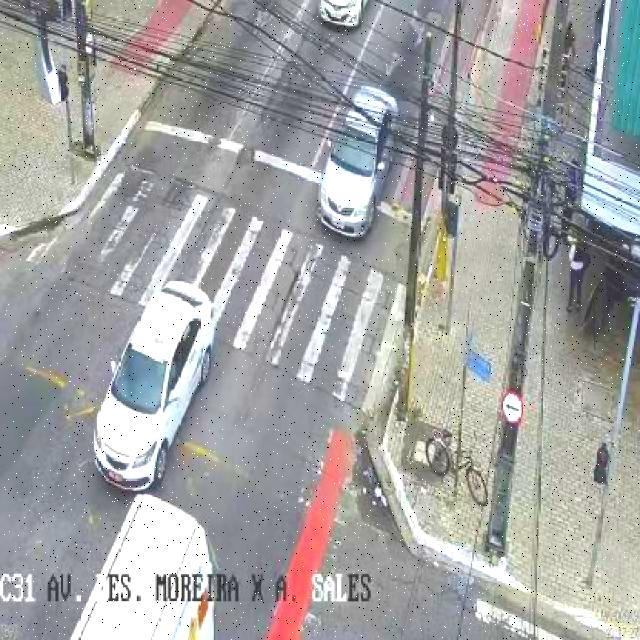Bus: (68, 494, 225, 640)
Car: (91, 280, 218, 493), (315, 85, 398, 239), (318, 0, 371, 30)
Cycle: (424, 429, 492, 509)
